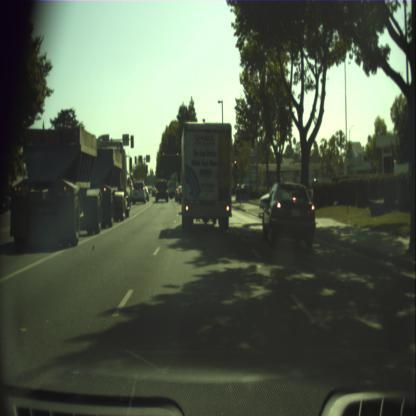Red: (233, 158, 236, 169), (162, 151, 164, 159), (176, 152, 178, 160)
off: (145, 164, 147, 172), (134, 155, 136, 162)
